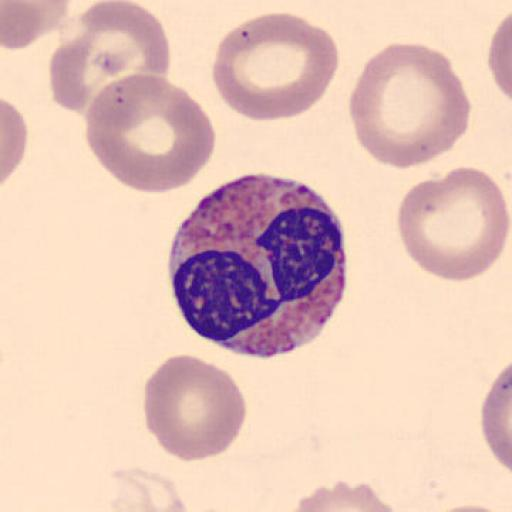RBC: (83, 71, 217, 197), (349, 40, 472, 172), (48, 0, 172, 117), (210, 11, 340, 122), (396, 166, 510, 283), (142, 352, 246, 462), (48, 32, 132, 114), (103, 464, 191, 512), (286, 478, 404, 512), (479, 358, 512, 478), (2, 0, 72, 51), (1, 95, 29, 191), (488, 8, 512, 106), (422, 502, 512, 512)
WBC: (166, 173, 349, 360)
